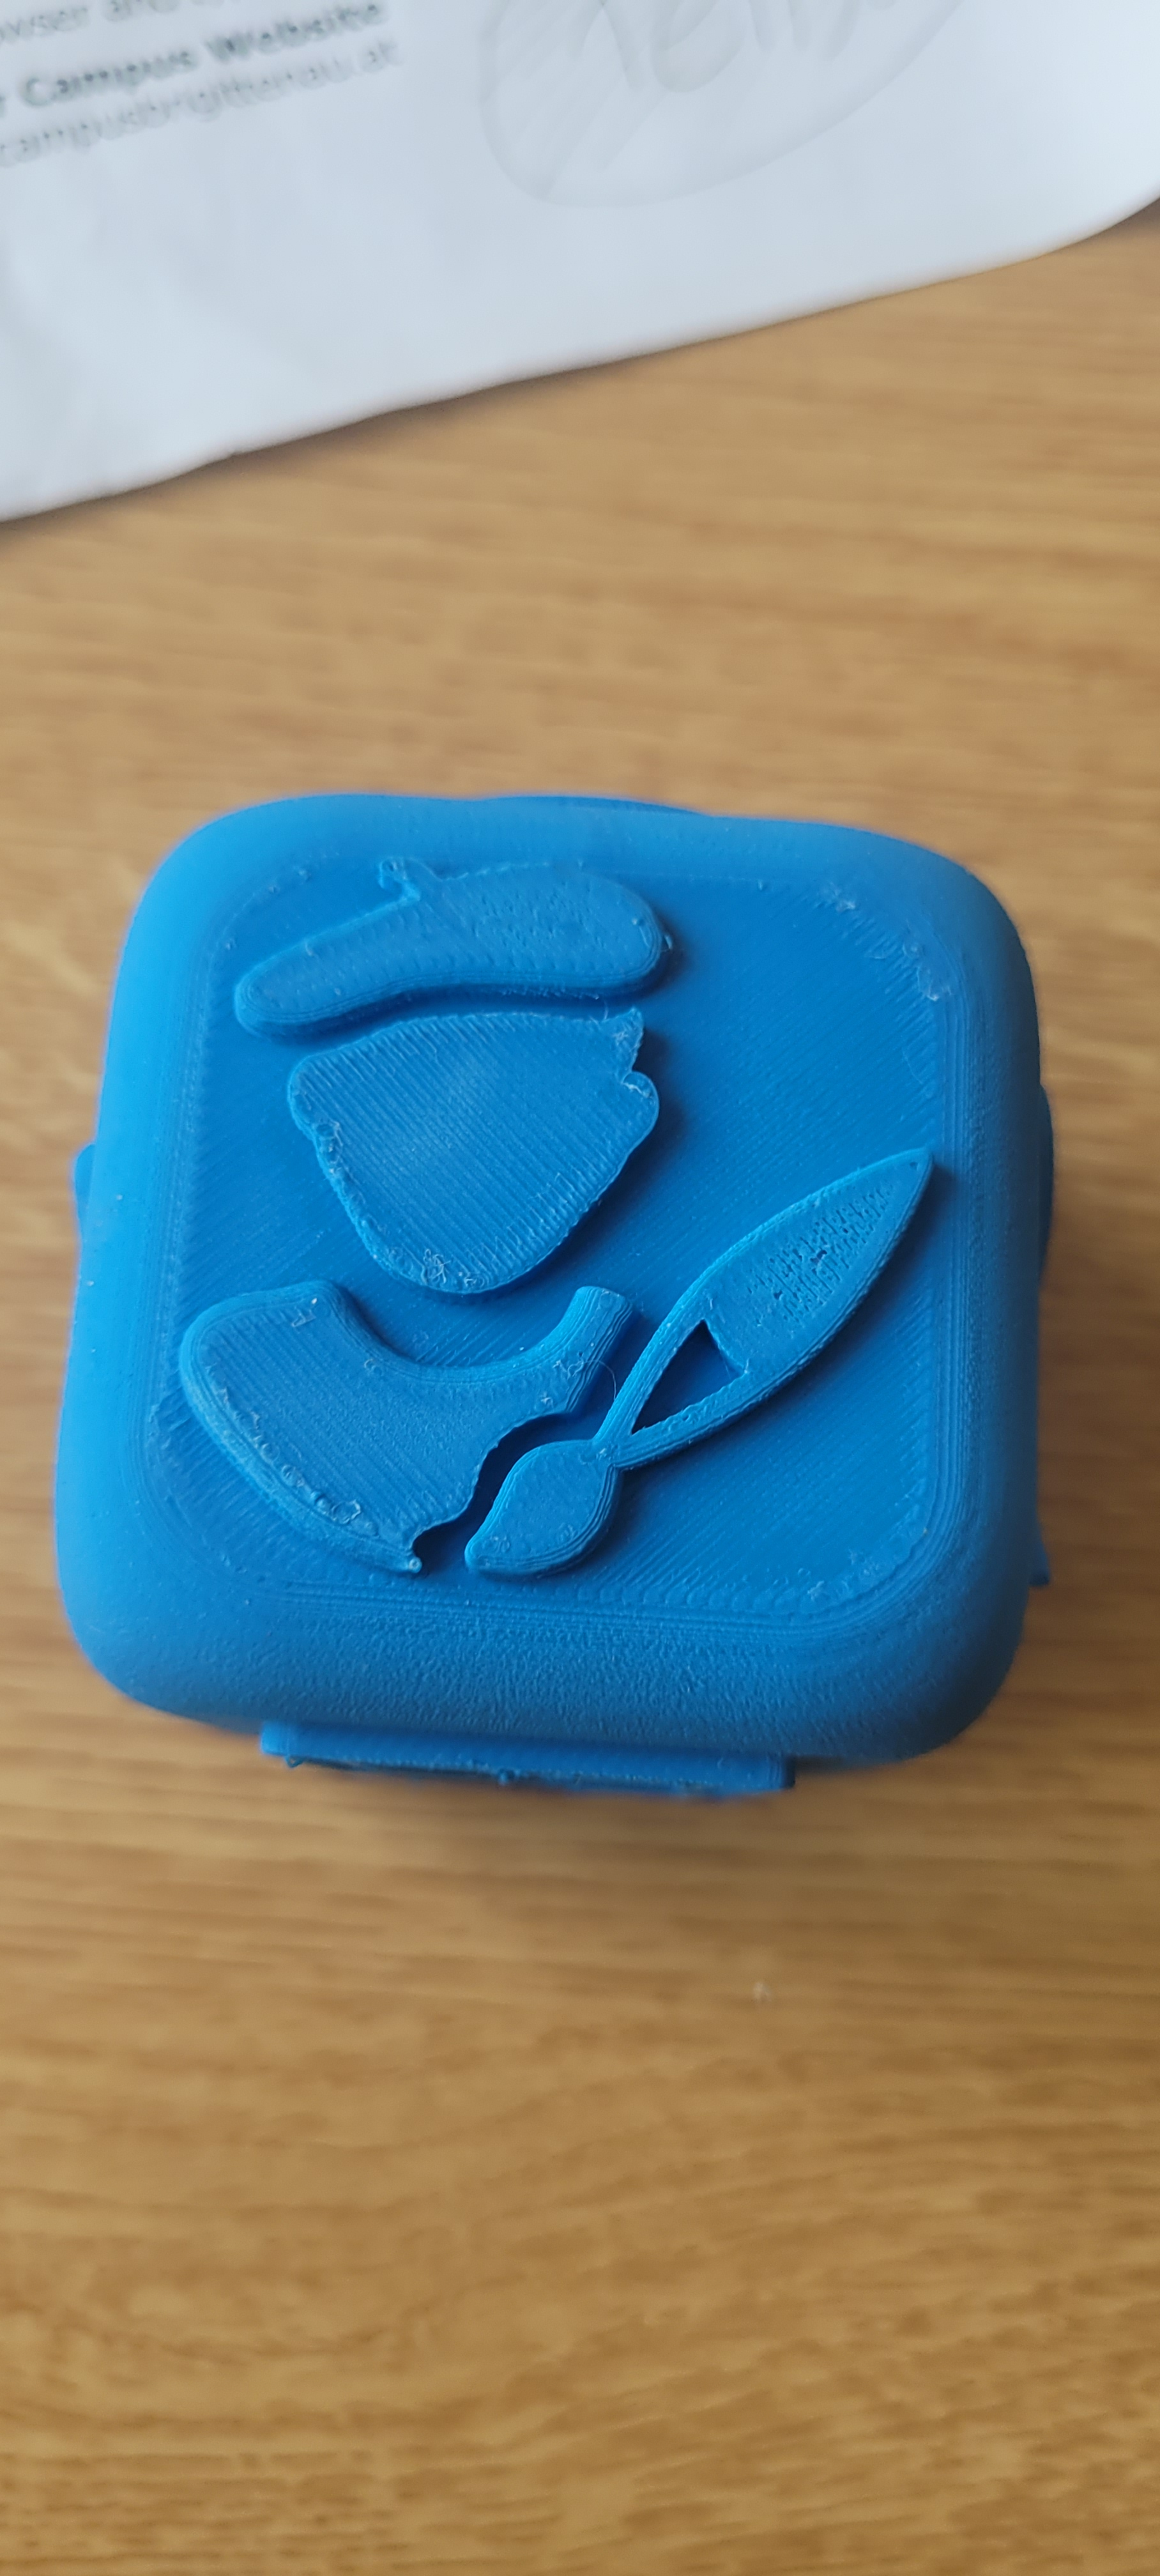Artist_Info: (76, 774, 1043, 1663)
